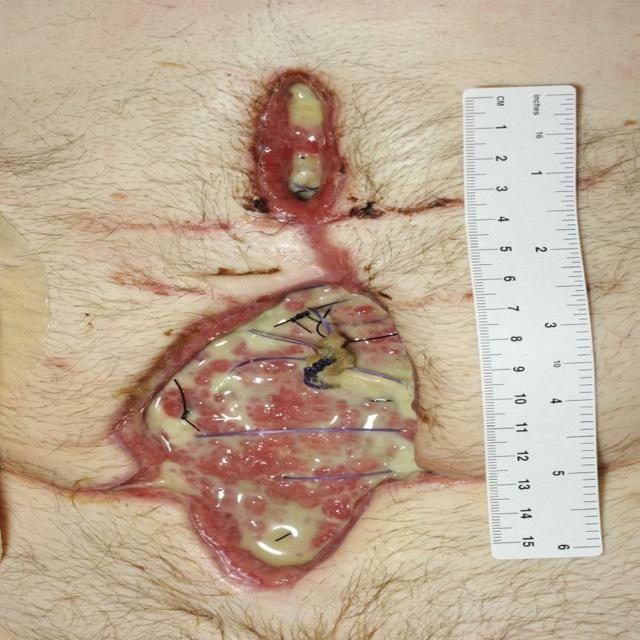wound: (92, 70, 446, 590)
